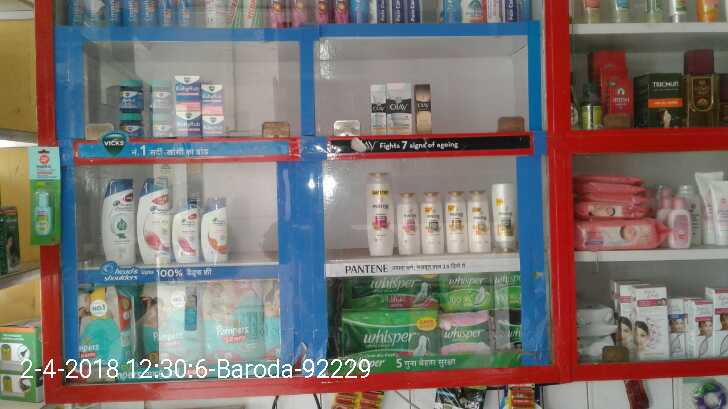vicks: (119, 79, 144, 114), (148, 79, 171, 114), (176, 74, 197, 110), (203, 85, 224, 114), (178, 113, 200, 134), (202, 116, 221, 137)
